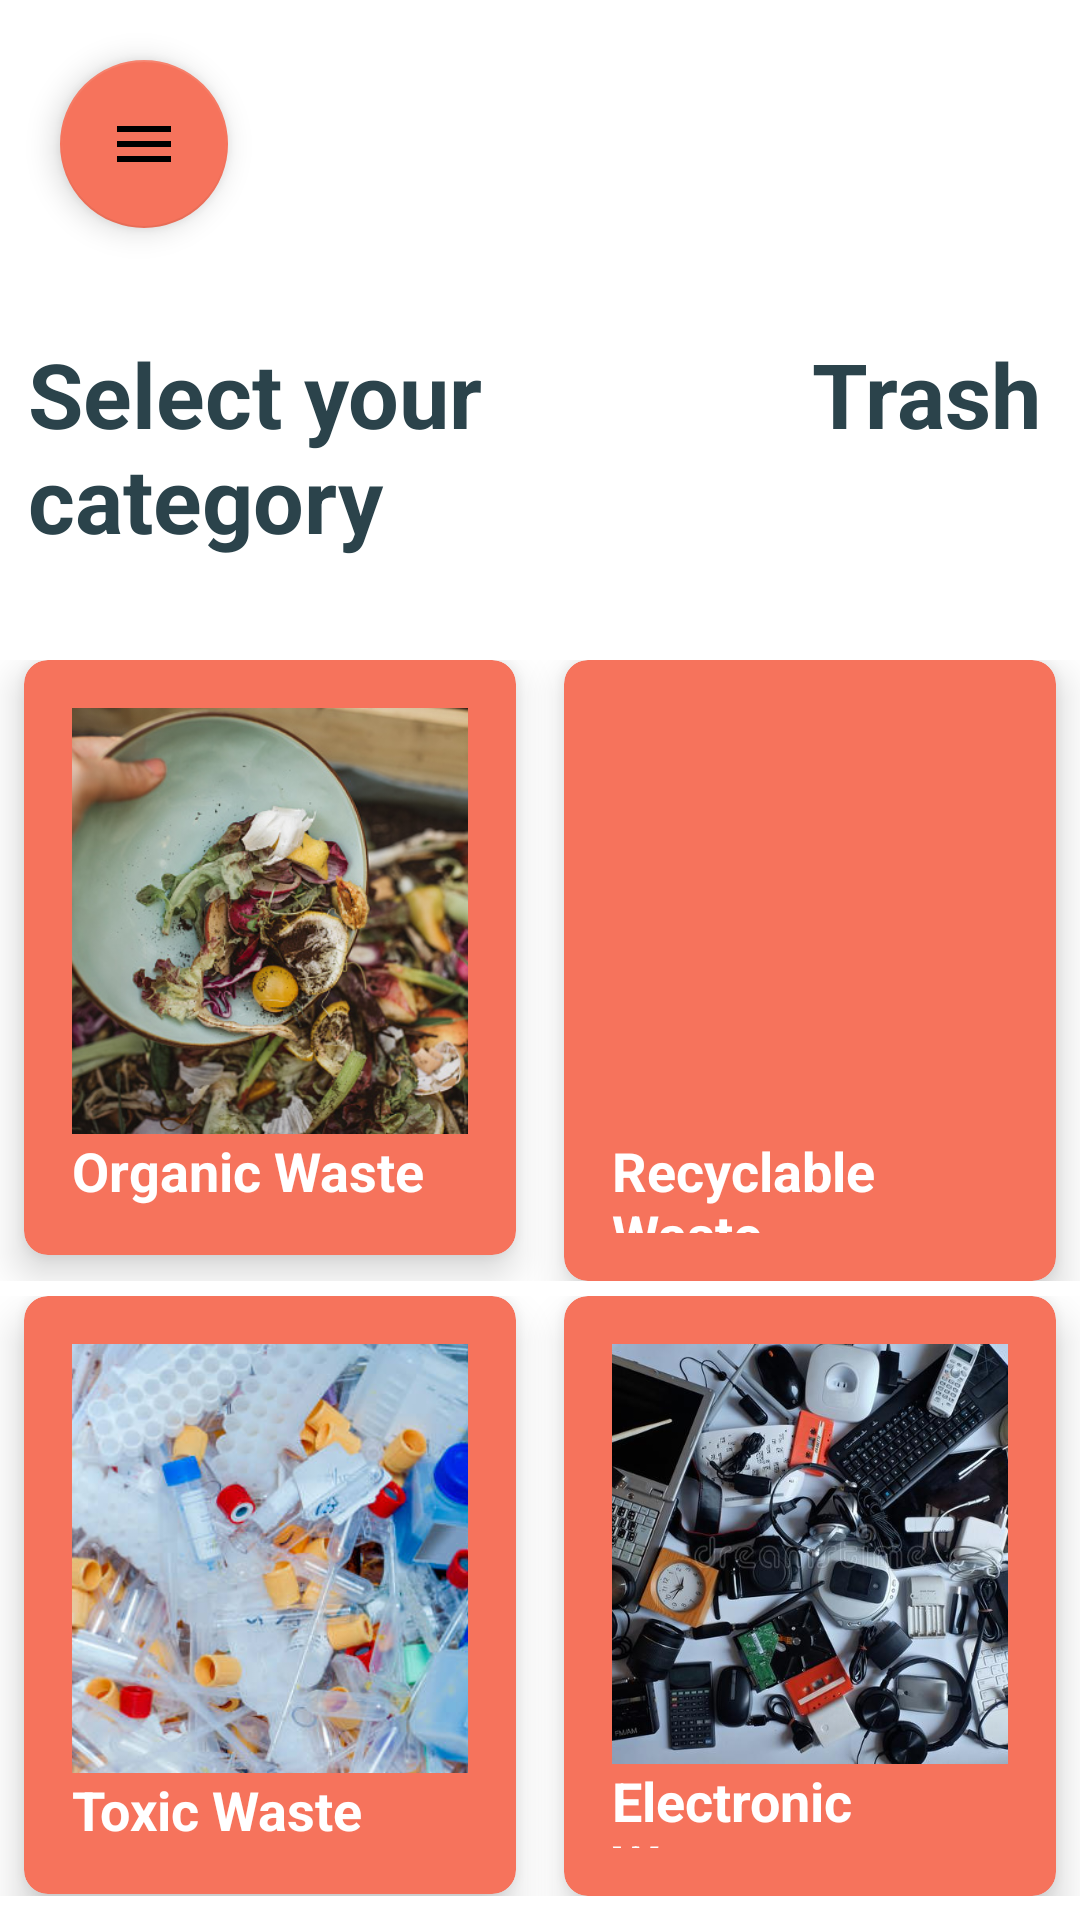

Where icons sit on this 1080×1920 app screen, as region(x1, y1, x2, y2):
menu: region(60, 60, 228, 228)
